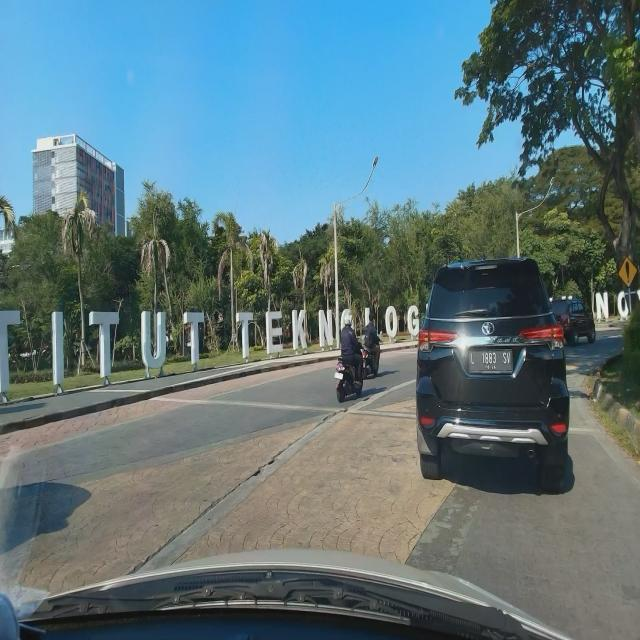car: (412, 253, 572, 497)
license-plate: (468, 348, 513, 374)
